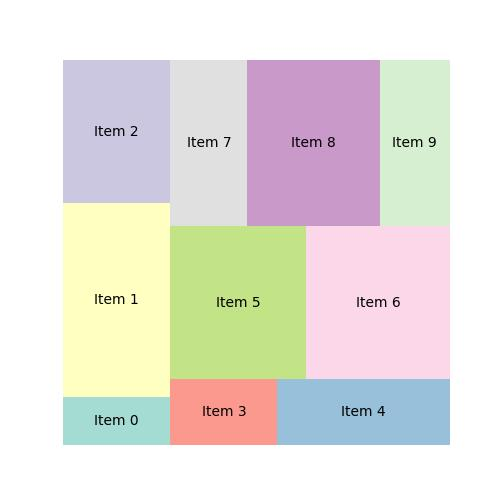rectangle: (307, 226, 451, 381), (246, 59, 379, 226), (170, 228, 308, 381), (64, 202, 171, 394), (63, 59, 171, 202), (170, 59, 248, 228), (379, 59, 451, 227), (279, 381, 450, 446), (171, 380, 279, 446), (63, 396, 172, 445)
